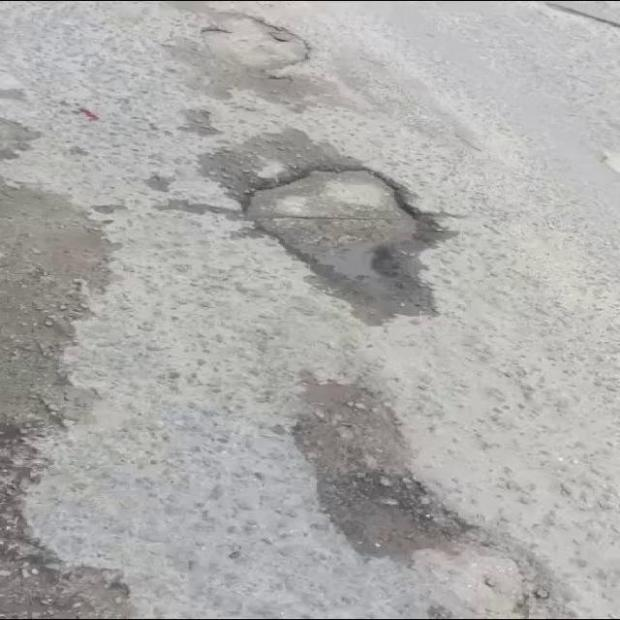lubang: (0, 184, 128, 616), (293, 379, 477, 557), (248, 169, 433, 323), (198, 11, 311, 92)
